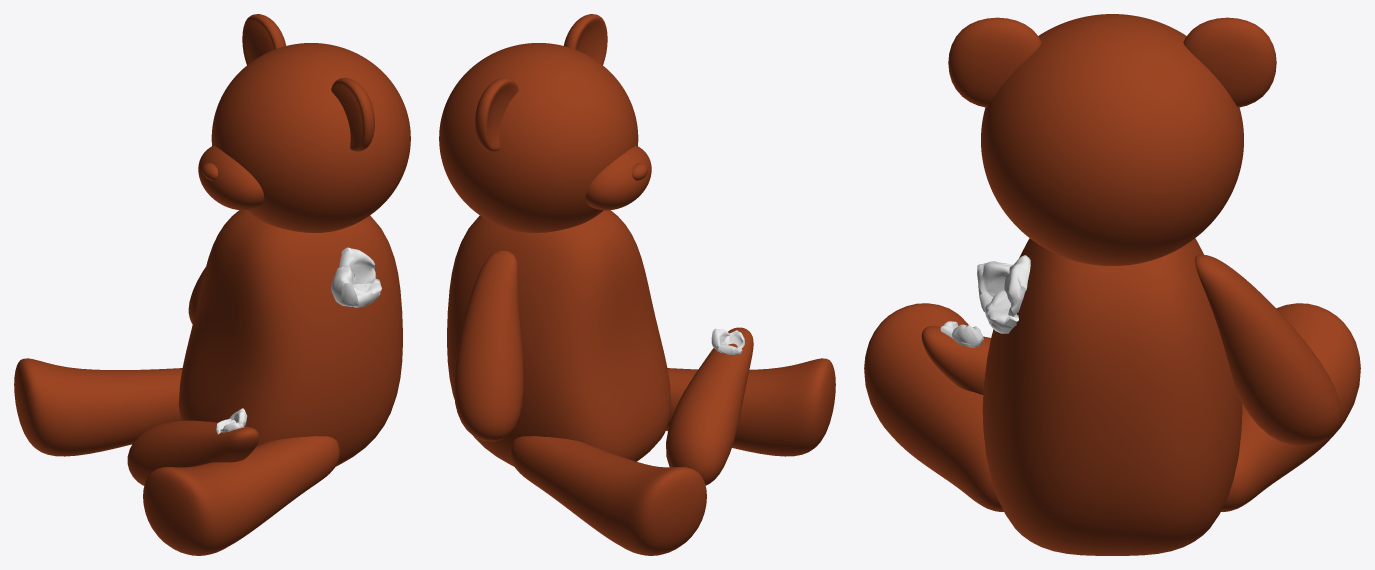
File: Urso_3.fbx
The picture shows the model from 3 angles, left to right: view 1: azimuth 30°, elevation 25°; view 2: azimuth 150°, elevation 25°; view 3: azimuth 270°, elevation 25°; orthographic projection. The views are drawn at different scales.
Visible parts, largest first — view 1: Urso_3; view 2: Urso_3; view 3: Urso_3.
Boxes of the visible parts, bbox=[...] form: Urso_3: bbox=[14, 14, 410, 555]; Urso_3: bbox=[439, 14, 835, 555]; Urso_3: bbox=[864, 14, 1360, 555].
Bounding box in the file's own units: 79.25 × 99.86 × 83.1.
